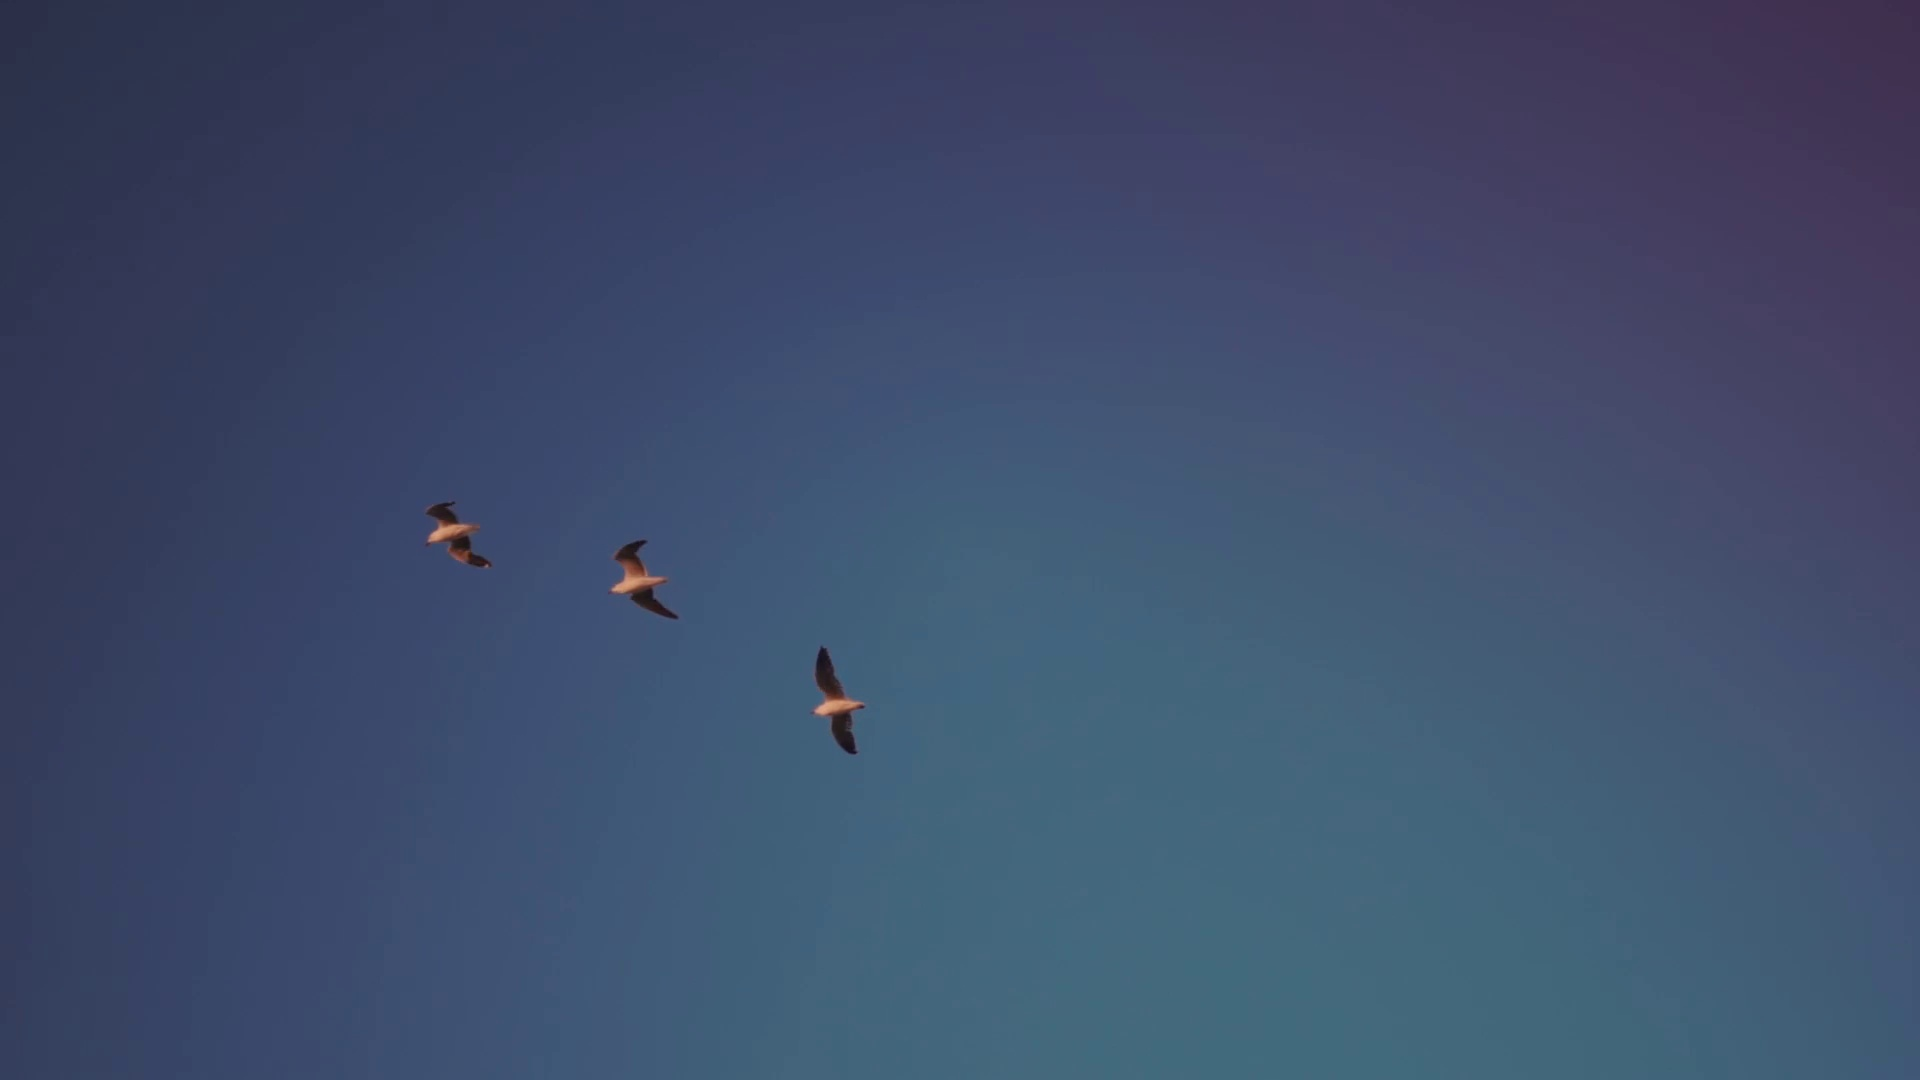bird: (604, 537, 679, 621), (810, 644, 862, 757), (421, 501, 498, 570)
